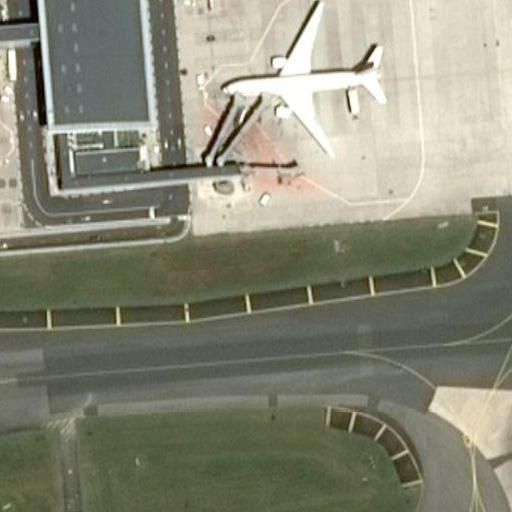Aircraft: (213, 0, 393, 164)
